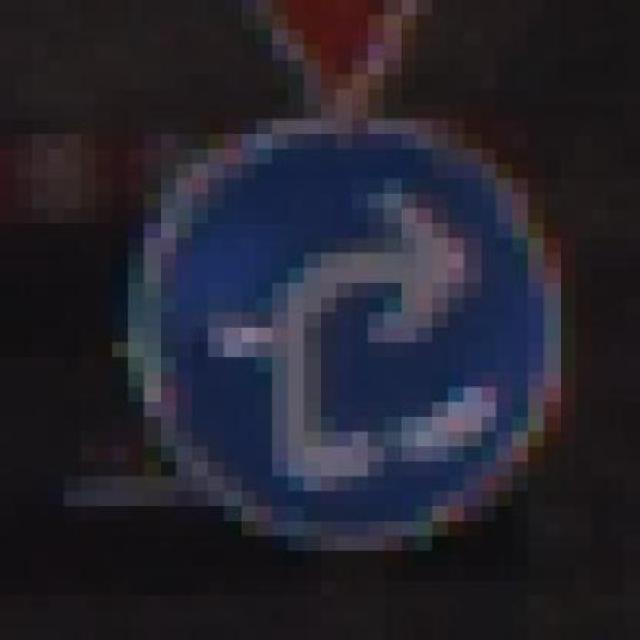Turn right ahead: (80, 89, 592, 580)
